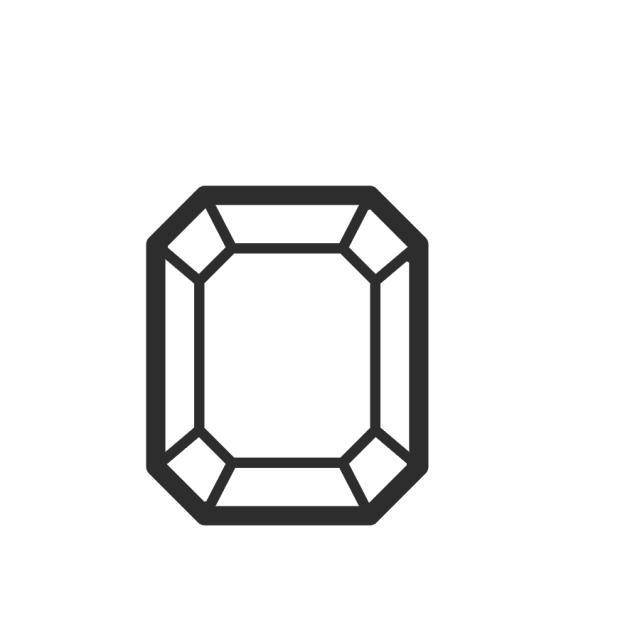emerald: (140, 179, 438, 536)
